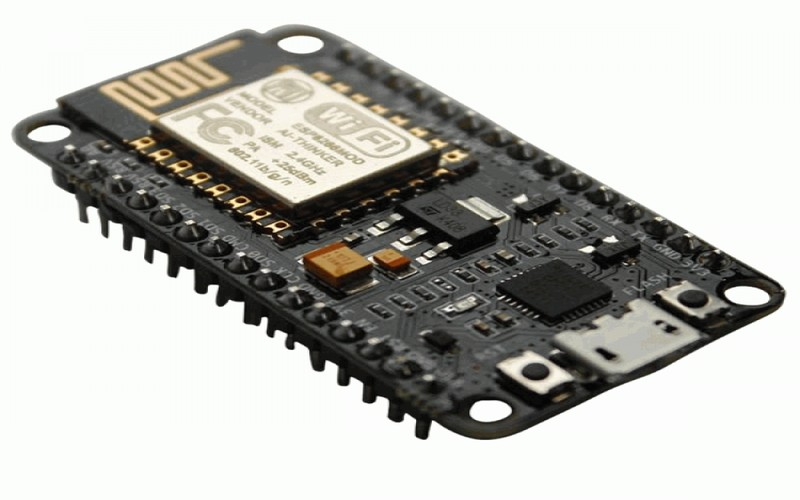IoT Sensor: (13, 15, 794, 454)
